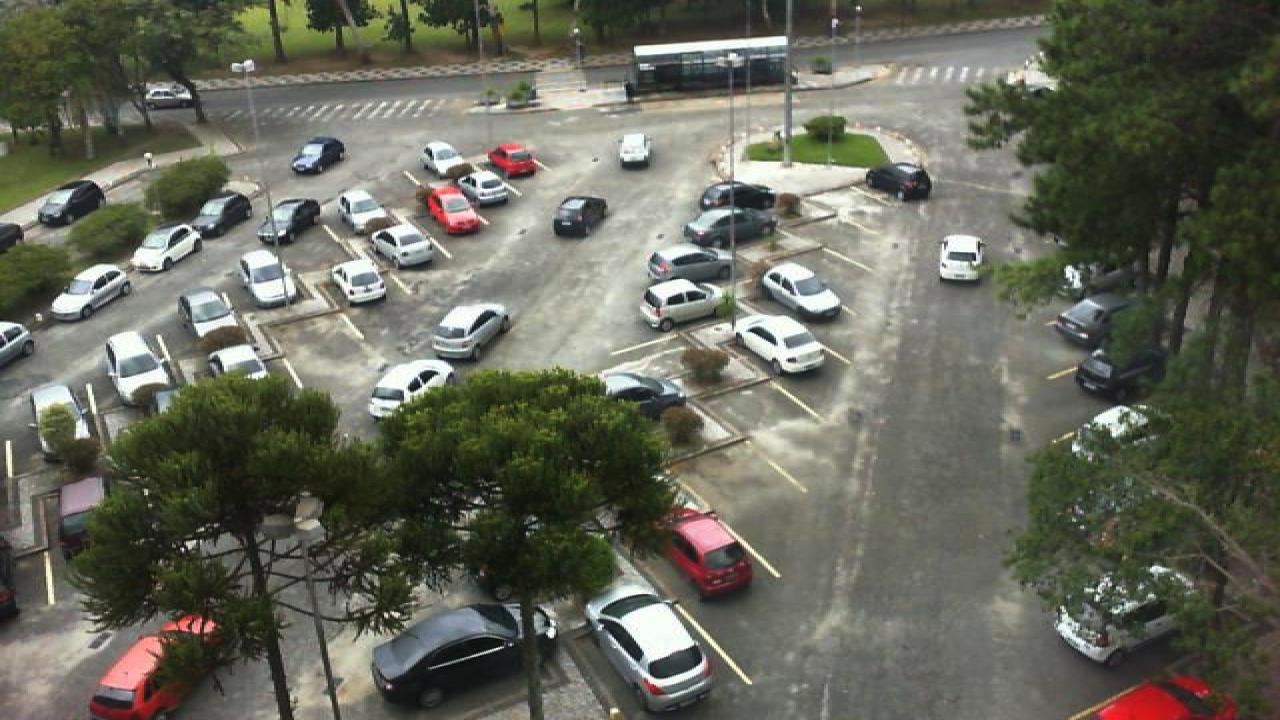Car: (368, 601, 562, 710), (582, 578, 716, 712), (84, 612, 224, 720), (1050, 565, 1184, 666), (658, 505, 756, 597), (1092, 674, 1238, 720), (732, 312, 828, 374), (102, 329, 174, 410), (28, 381, 94, 468), (366, 359, 456, 422), (1054, 292, 1138, 354), (760, 261, 844, 321), (46, 264, 134, 320), (1076, 342, 1162, 398), (176, 290, 248, 356), (430, 303, 512, 360), (640, 277, 726, 331), (596, 370, 686, 421), (684, 207, 780, 246), (130, 224, 204, 273), (36, 179, 108, 227), (422, 181, 484, 236), (646, 246, 734, 284), (256, 198, 322, 245), (238, 250, 292, 307), (368, 224, 436, 269), (1062, 262, 1138, 302), (188, 192, 252, 238), (338, 189, 396, 239), (332, 255, 388, 304), (864, 161, 932, 201), (208, 342, 268, 384), (552, 194, 608, 238), (698, 180, 774, 212), (938, 234, 984, 281), (290, 136, 346, 174), (488, 142, 542, 179), (460, 169, 512, 206), (420, 140, 468, 176), (0, 320, 34, 366), (142, 82, 196, 109), (618, 134, 654, 170)
